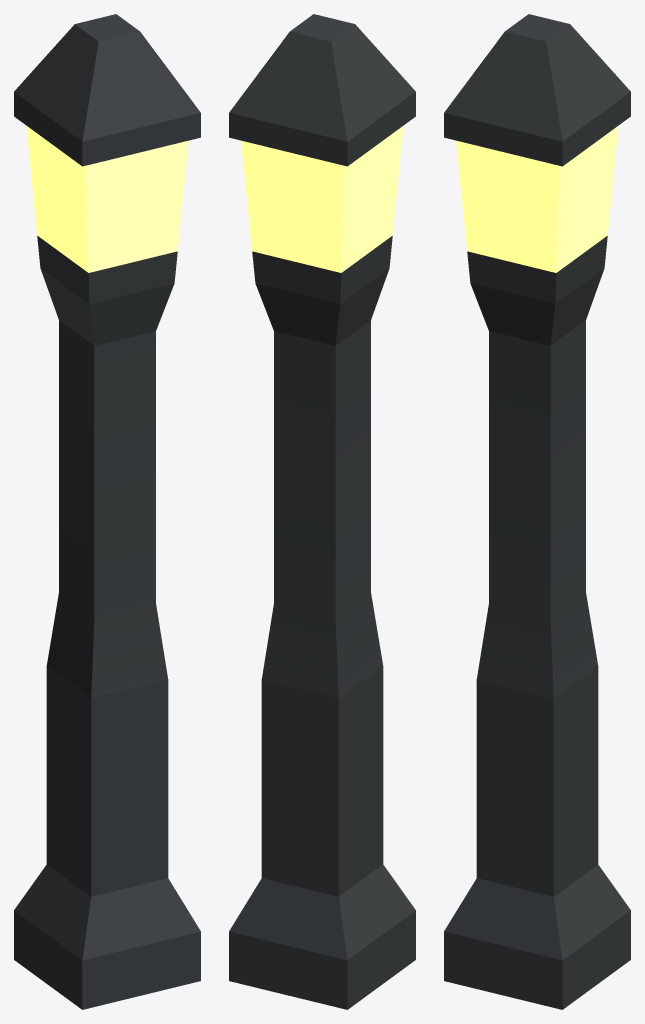
Rendered from london_street_lamp.glb.
3 renders of one model, left to right at view 1: azimuth 30°, elevation 25°; view 2: azimuth 150°, elevation 25°; view 3: azimuth 330°, elevation 25°, orthographic.
Parts seen in each view (by area): view 1: Lightpost_01; view 2: Lightpost_01; view 3: Lightpost_01.
Part boxes in pixels (<box>): Lightpost_01: <box>14,14,200,1009</box>; Lightpost_01: <box>229,14,415,1009</box>; Lightpost_01: <box>444,14,630,1009</box>.
Size of the model in its own units: 1.58 by 12 by 1.58.
